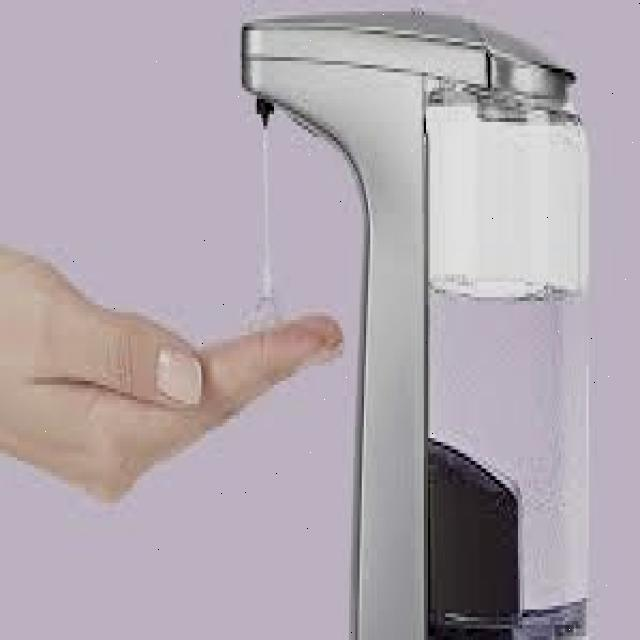liquid soap: (240, 11, 595, 640)
